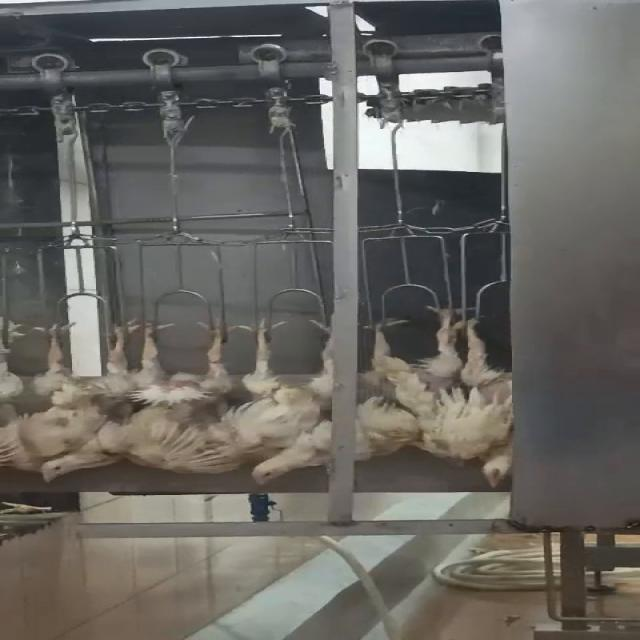chicken: (235, 310, 346, 486), (37, 319, 144, 485), (128, 313, 235, 478), (356, 301, 458, 465), (458, 297, 514, 491), (0, 315, 29, 474)
